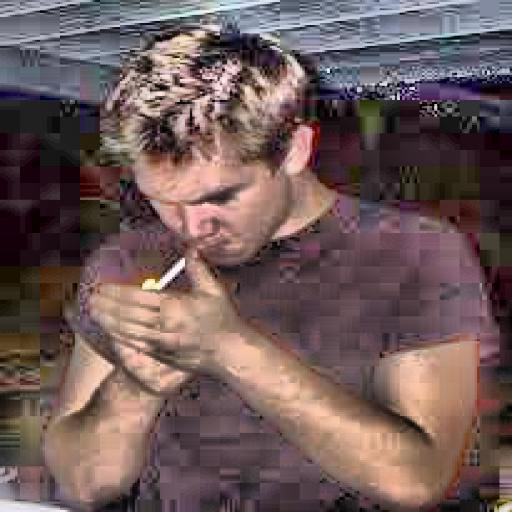fire: (125, 266, 160, 296)
